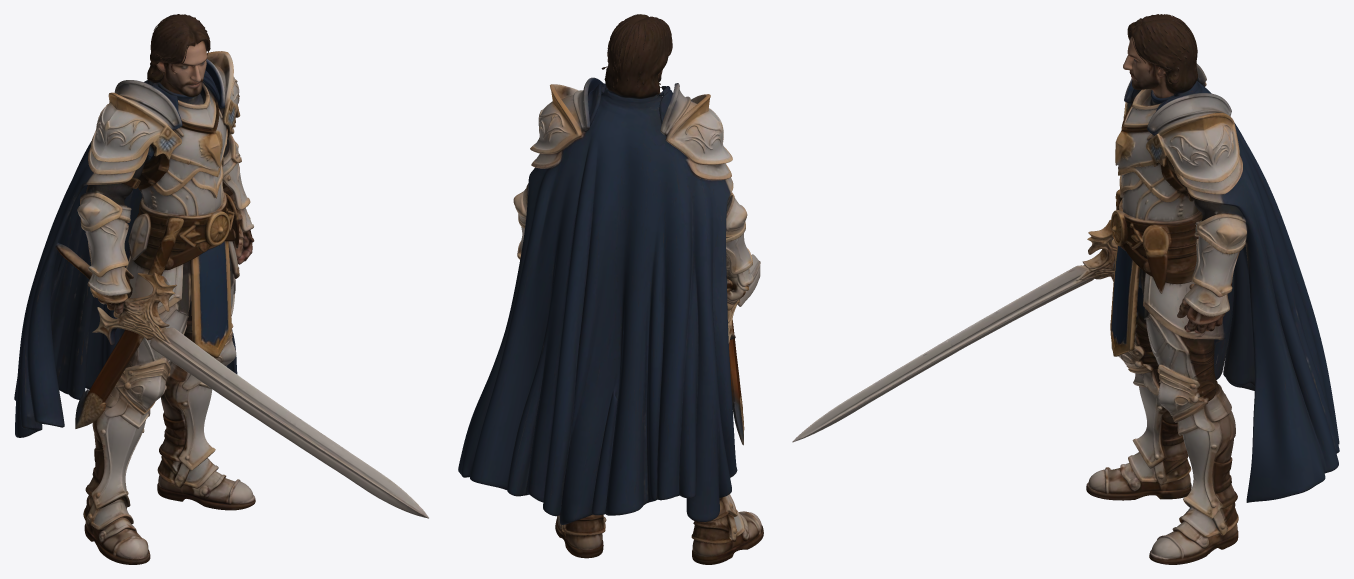
The model's file is warrior_full_female_01.glb.
The picture shows the model from 3 angles, left to right: view 1: azimuth 30°, elevation 25°; view 2: azimuth 150°, elevation 25°; view 3: azimuth 270°, elevation 25°; orthographic projection. The views are drawn at different scales.
Visible parts, largest first — view 1: material; view 2: material; view 3: material.
Boxes of the visible parts, <box> form: material: <box>14,14,428,564</box>; material: <box>458,14,763,564</box>; material: <box>792,14,1339,564</box>.
Size of the model in its own units: 0.4911 by 1.01 by 0.9798.
Materials: 1 (1 with a texture image).
